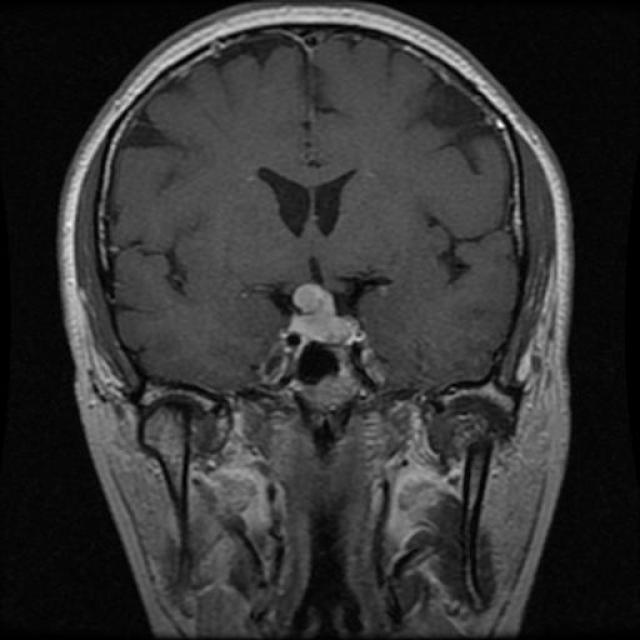pituitary: (259, 283, 402, 433)
